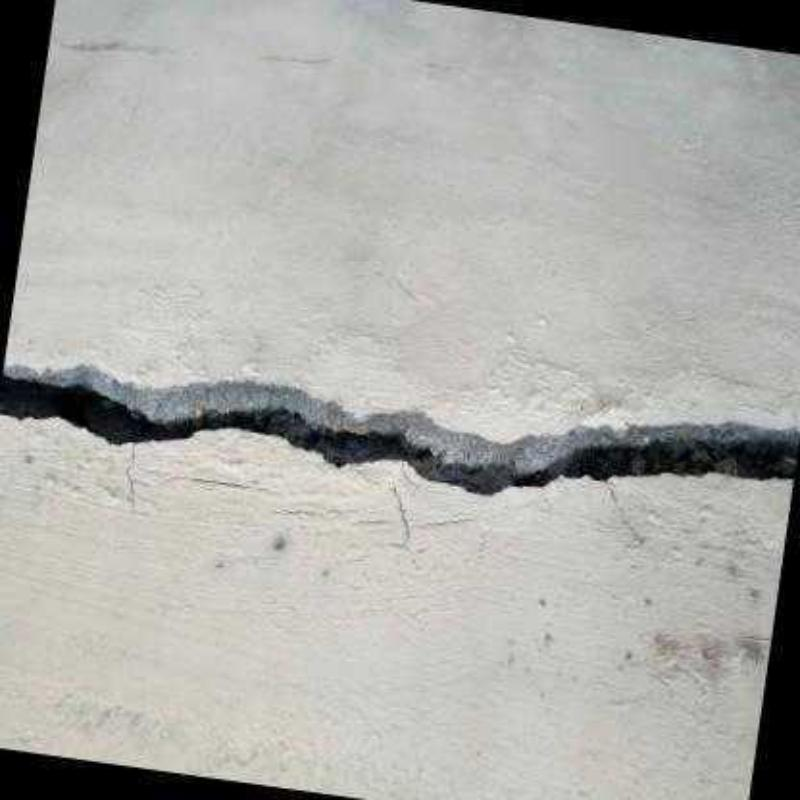pothole: (2, 361, 800, 496)
